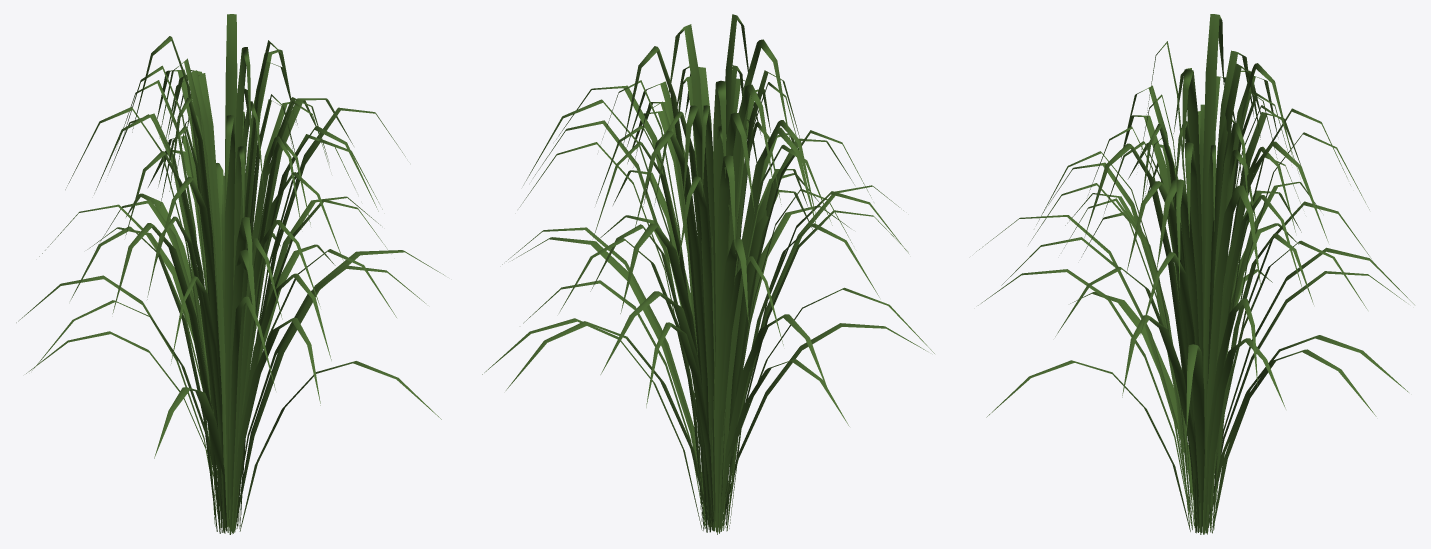
The model's file is ornamental_grass_01.glb.
3 renders of one model, left to right at view 1: azimuth 30°, elevation 25°; view 2: azimuth 150°, elevation 25°; view 3: azimuth 270°, elevation 25°, orthographic. The views are drawn at different scales.
Visible parts, largest first — view 1: ORNAMENTAL_GRASS_01; view 2: ORNAMENTAL_GRASS_01; view 3: ORNAMENTAL_GRASS_01.
Part boxes in pixels (<box>): ORNAMENTAL_GRASS_01: <box>16,14,444,534</box>; ORNAMENTAL_GRASS_01: <box>482,14,934,534</box>; ORNAMENTAL_GRASS_01: <box>976,14,1414,534</box>.
Bounding box in the file's own units: 0.8914 × 1 × 0.8305.
